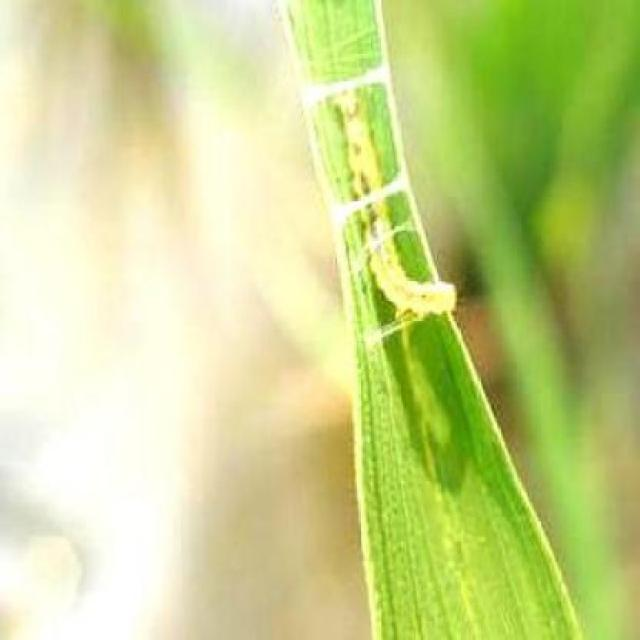leaf-folder: (312, 65, 478, 373)
